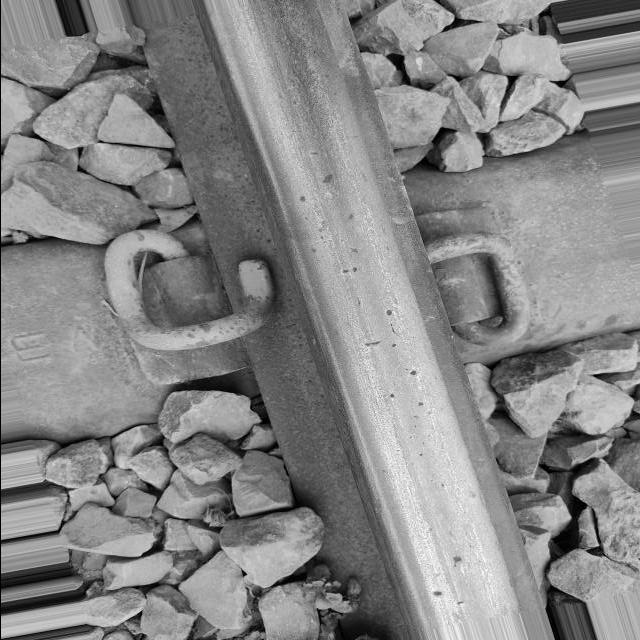squats_high: (298, 148, 334, 204), (431, 554, 465, 608), (384, 369, 426, 407), (362, 310, 399, 347), (340, 247, 362, 273), (344, 211, 356, 221)
